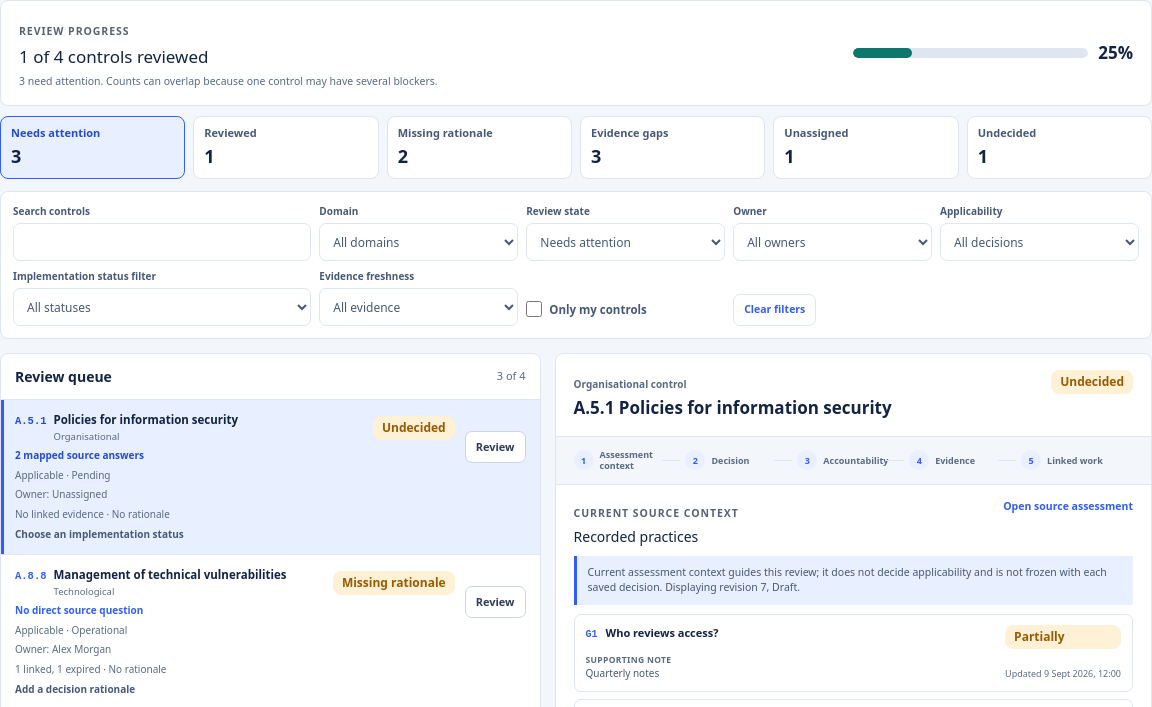
Scenario: SoaReviewWorkspace › filters from summary blockers and narrows results by search
Click the button "Missing rationale 2". click: {"x": 479, "y": 147}
box: [387, 116, 572, 179]
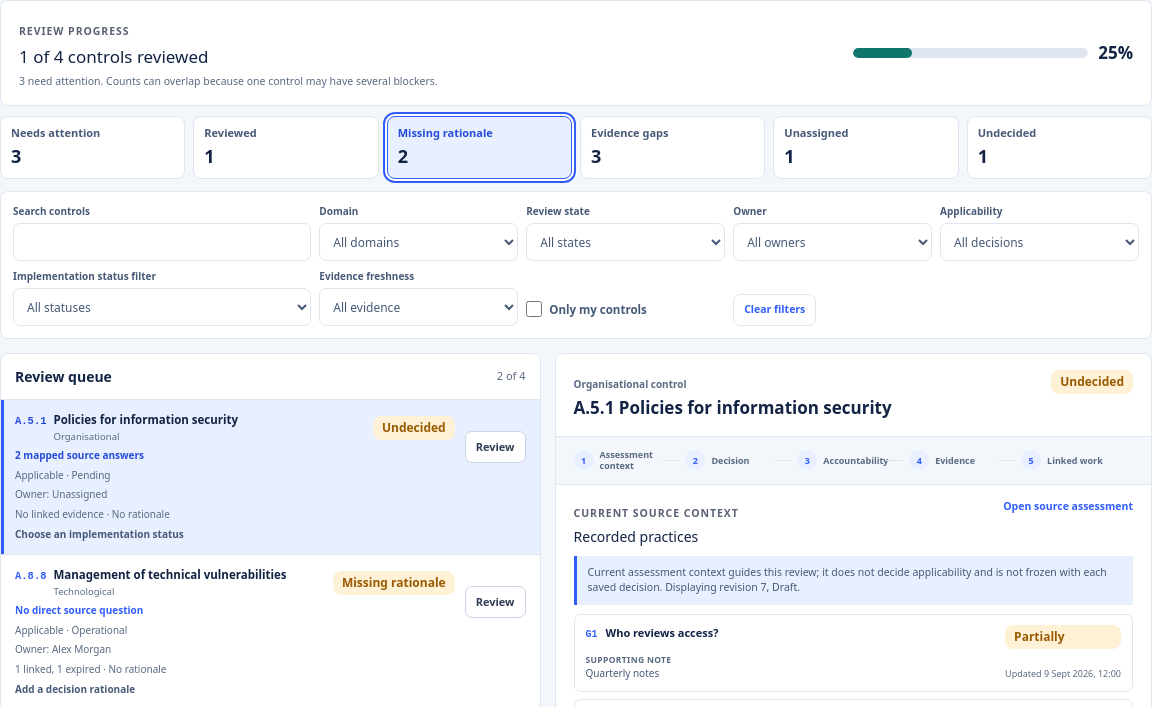
Expected: the text "Policies for information security" is shown, [54, 412, 238, 427]
Expected: the text "Management of technical vulnerabilities" is shown, [54, 567, 323, 583]
Type "vulnerabilities" into the search field labelled "Search controls". click: {"x": 162, "y": 242}
box: [13, 223, 311, 261]
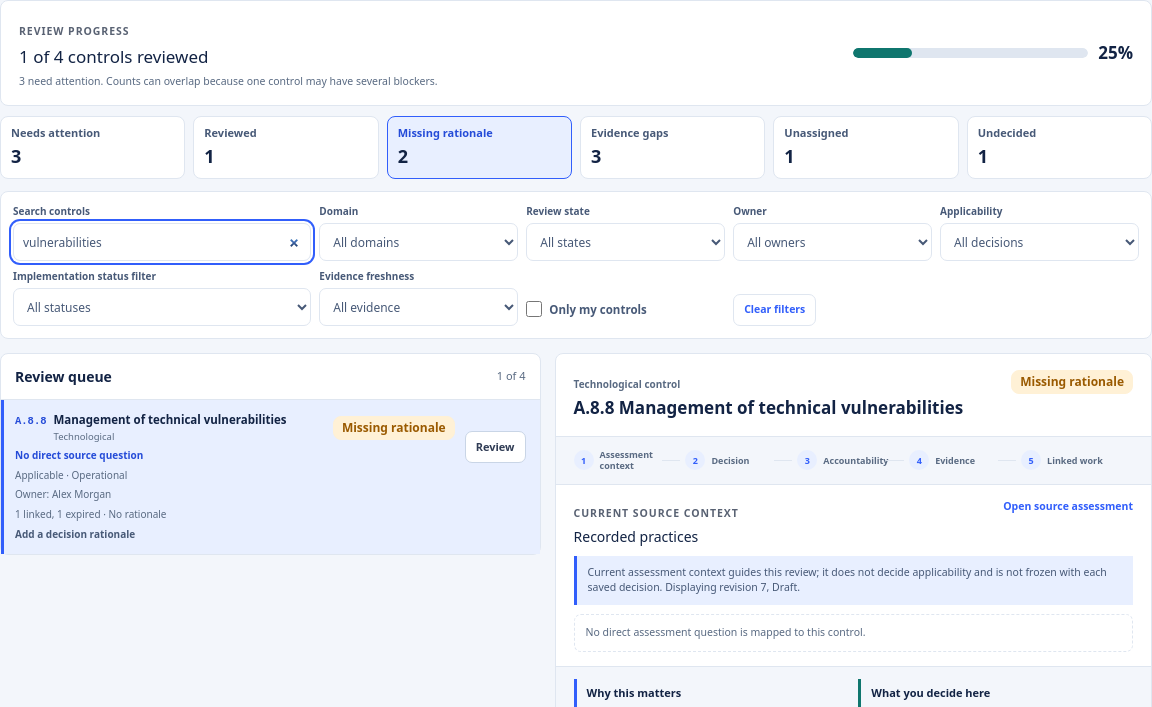
Expected: the text "Management of technical vulnerabilities" is shown, [54, 412, 323, 428]
Result: the text "Policies for information security" is gone
